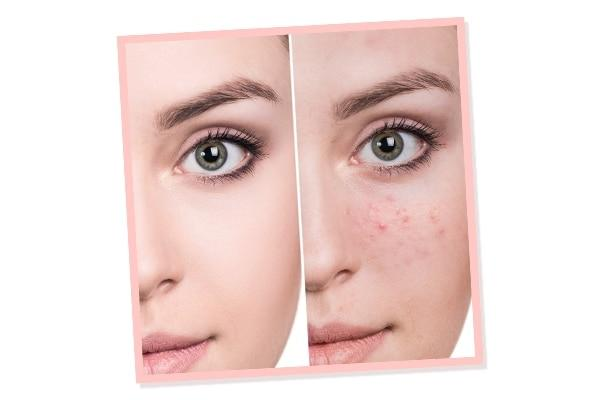Acne: (353, 184, 457, 274)
